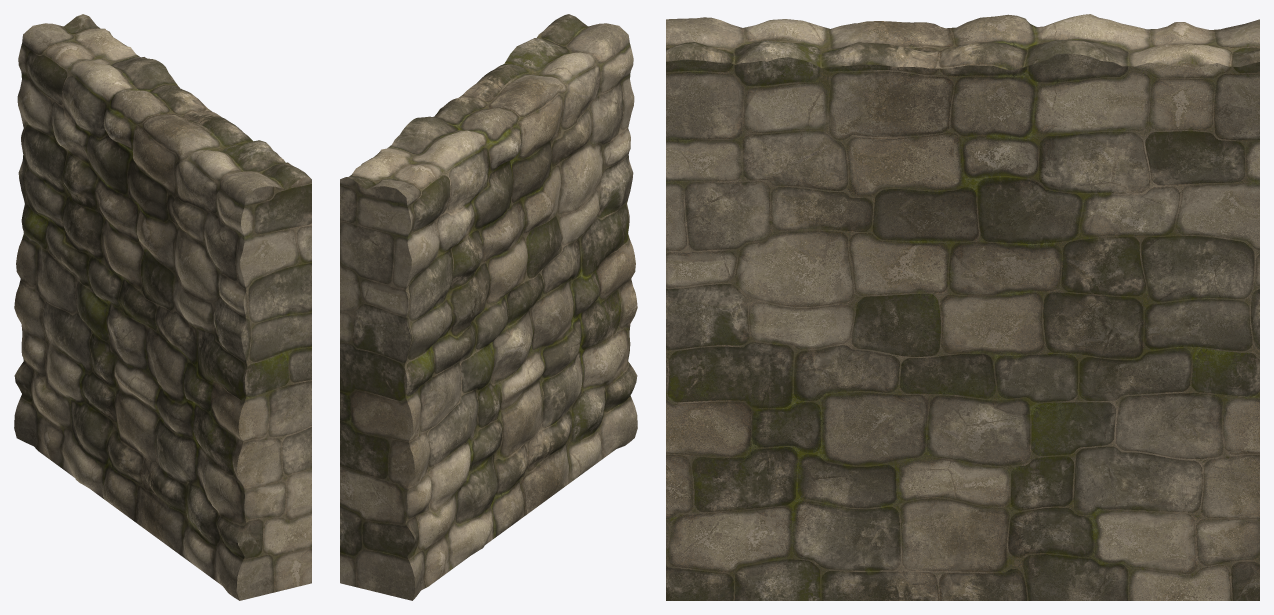
Rendered from SM_Pond.fbx.
The picture shows the model from 3 angles, left to right: view 1: azimuth 30°, elevation 25°; view 2: azimuth 150°, elevation 25°; view 3: azimuth 270°, elevation 25°; orthographic projection. The views are drawn at different scales.
Parts seen in each view (by area): view 1: SM_Pond; view 2: SM_Pond; view 3: SM_Pond.
Boxes of the visible parts, <box> form: SM_Pond: <box>14,14,311,600</box>; SM_Pond: <box>340,14,637,600</box>; SM_Pond: <box>666,14,1259,600</box>.
Bounding box in the file's own units: 41.23 × 200 × 205.
1 material, 1 textured.
